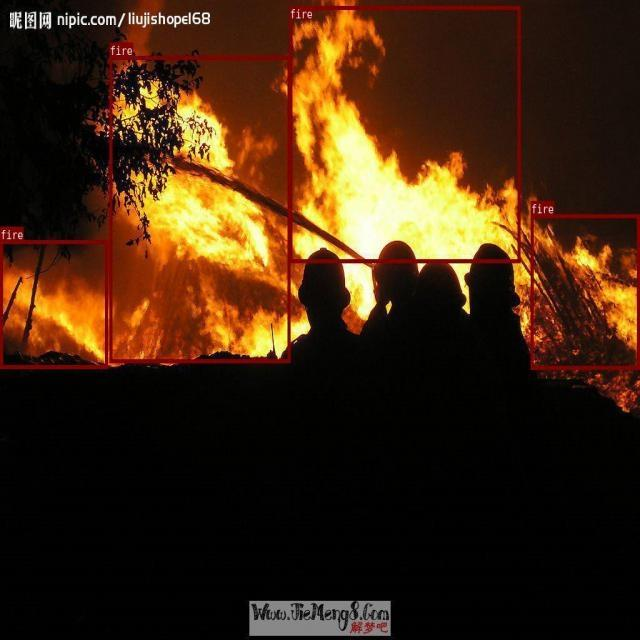fire: (289, 6, 520, 262), (110, 55, 290, 362), (530, 214, 639, 368), (0, 240, 108, 369)
